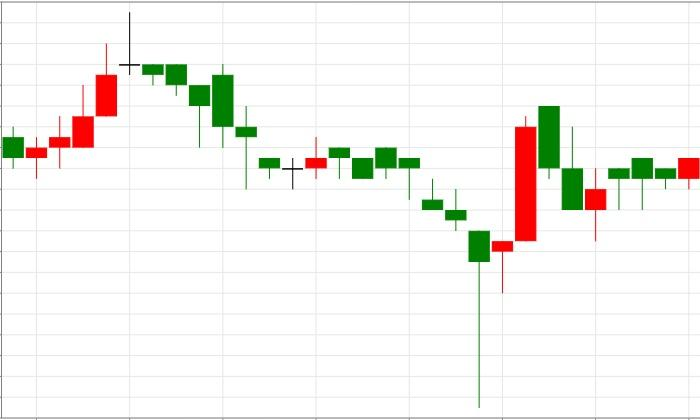hammer_rise: (328, 147, 491, 408)
